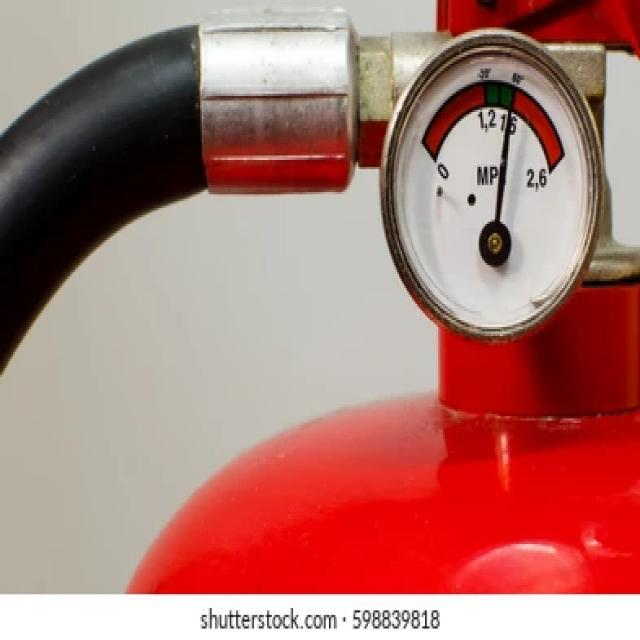pressure gauge: (381, 30, 605, 341)
